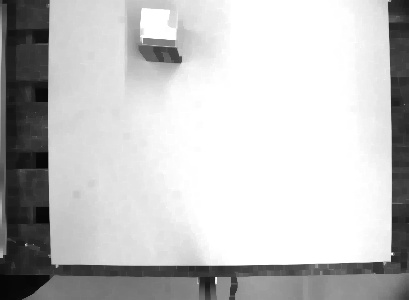b4: (133, 3, 187, 66)
